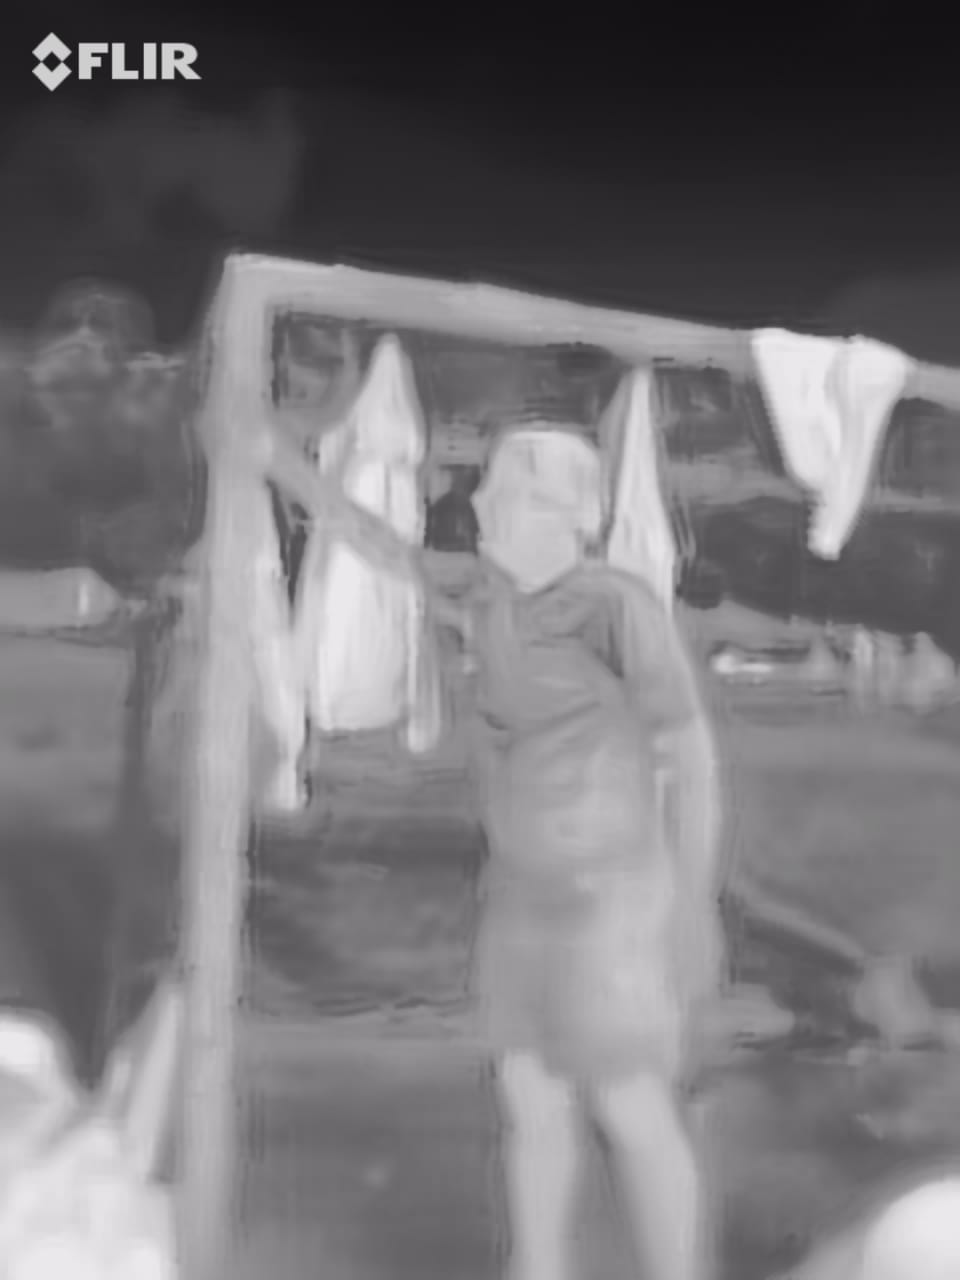head: (460, 421, 619, 588)
